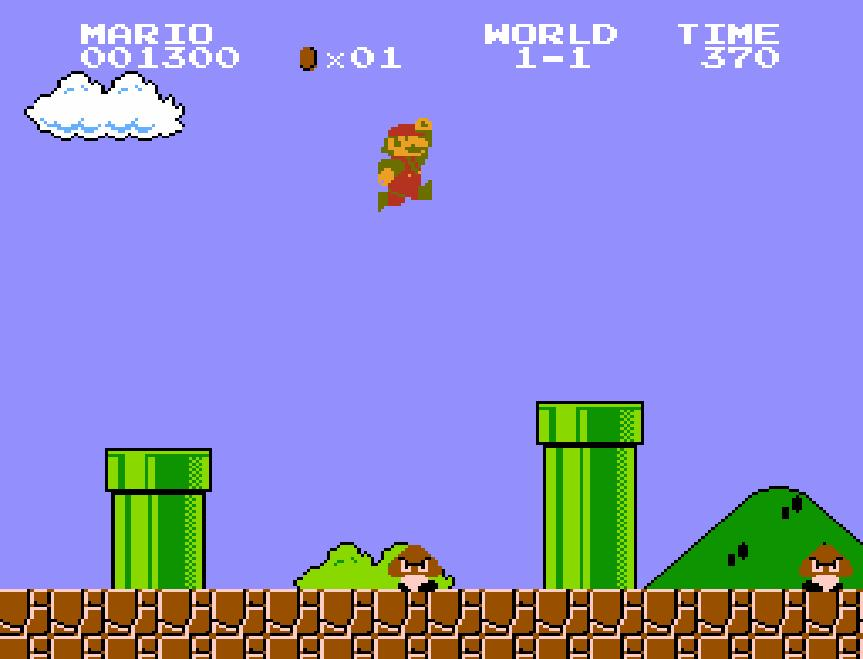big_mario: (376, 115, 434, 213)
